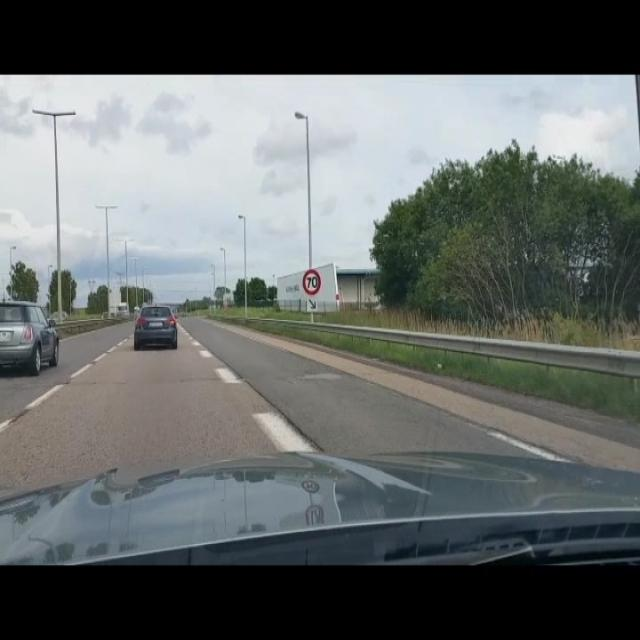side_right: (307, 297, 317, 311)
speed_70: (302, 268, 322, 298)
